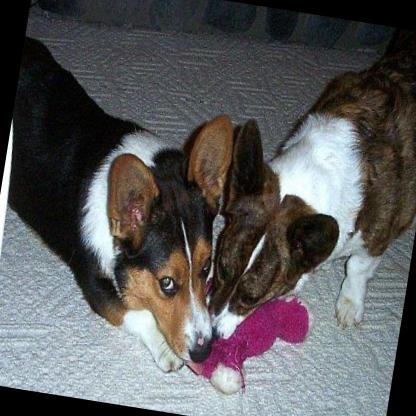Cardigan: (0, 34, 256, 382), (201, 5, 416, 377)
